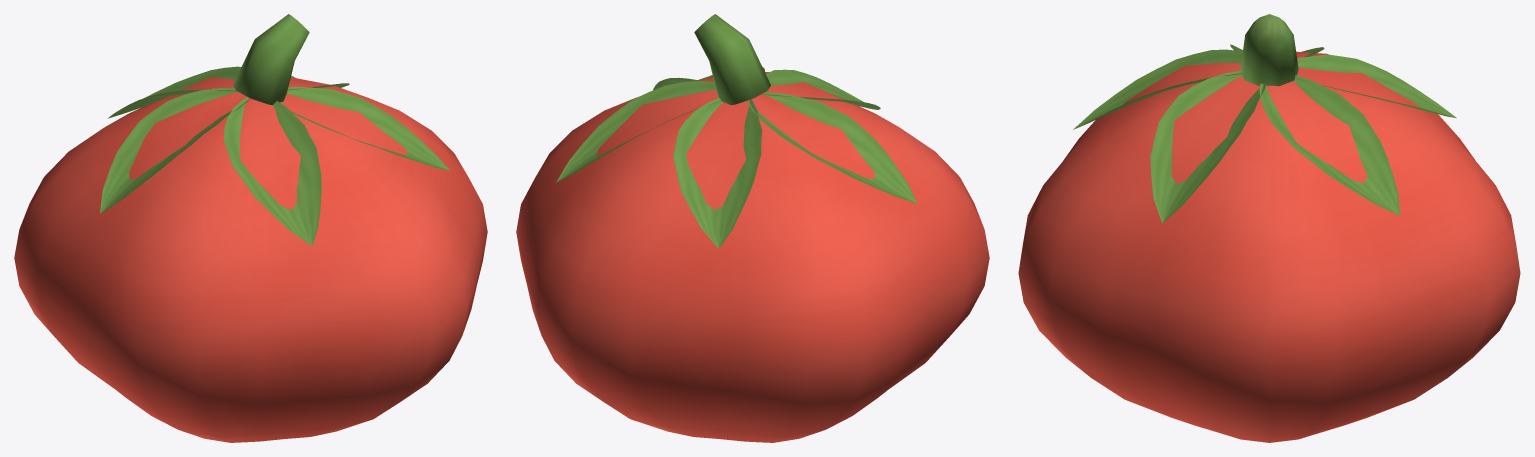
3 views of the same model, side by side, from view 1: azimuth 30°, elevation 25°; view 2: azimuth 150°, elevation 25°; view 3: azimuth 270°, elevation 25° (orthographic). The views are drawn at different scales.
Parts seen in each view (by area): view 1: tomato; view 2: tomato; view 3: tomato.
Boxes of the visible parts, <box> form: tomato: <box>14,14,487,442</box>; tomato: <box>516,14,989,442</box>; tomato: <box>1018,14,1520,442</box>.
Size of the model in its own units: 0.1683 by 0.16 by 0.1706.
1 material, 1 textured.
